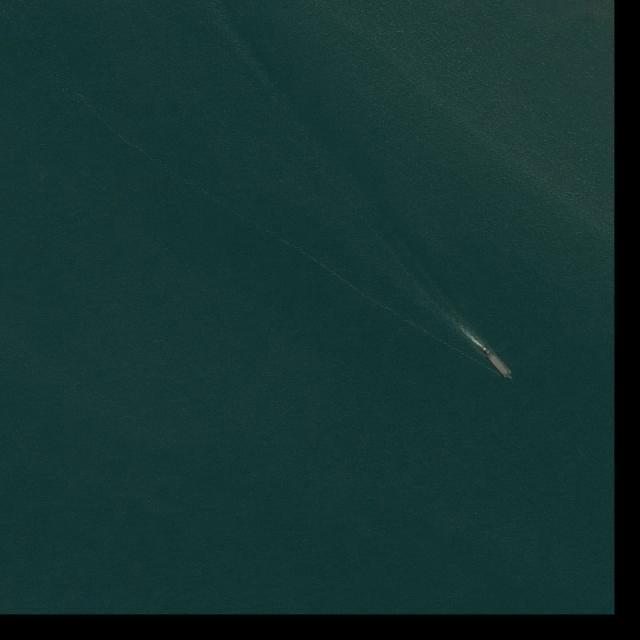ship: (486, 351, 516, 382), (480, 345, 490, 355)
